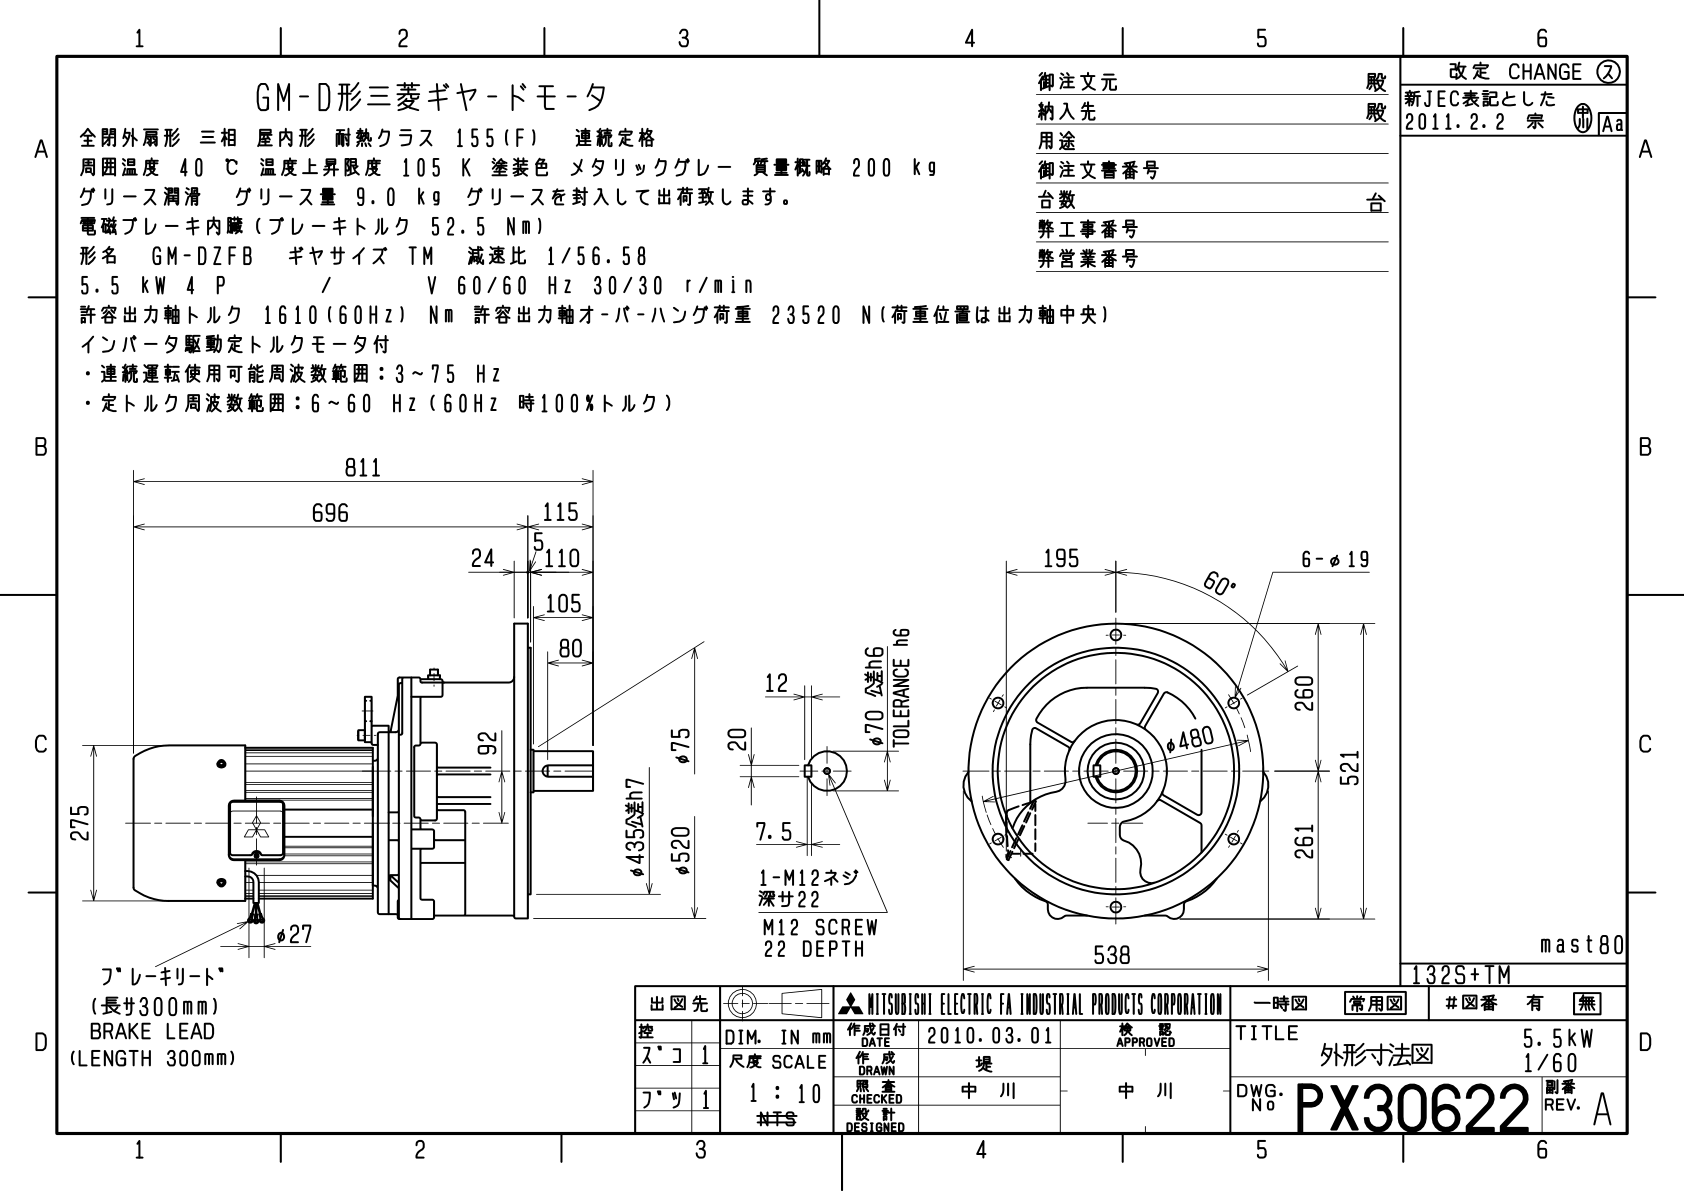GM_D_インバータ屋内_三相_フランジ: (12, 6, 1679, 1191)
